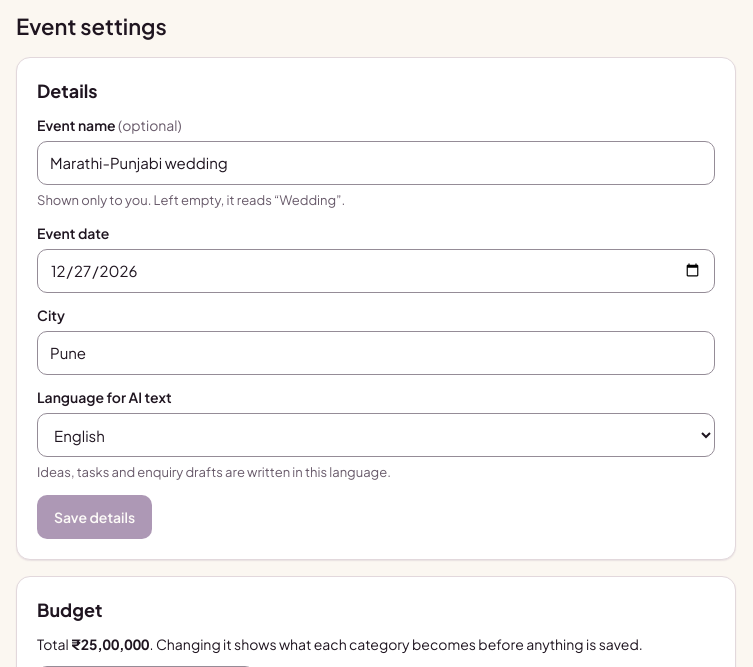
Test: Event settings: failures and existing links › shows the store's reason when saving details fails, and a fallback without one
The image size is (753, 667).
Replace the text in the field labelled "City" with "Nashik": (376, 353) [37, 331, 715, 375]
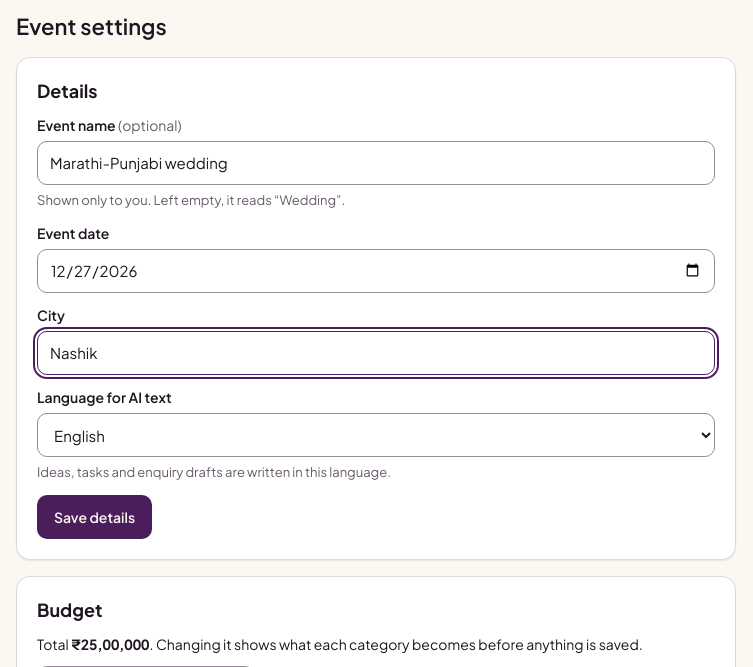
Click the button "Save details": (95, 517) [37, 495, 152, 539]
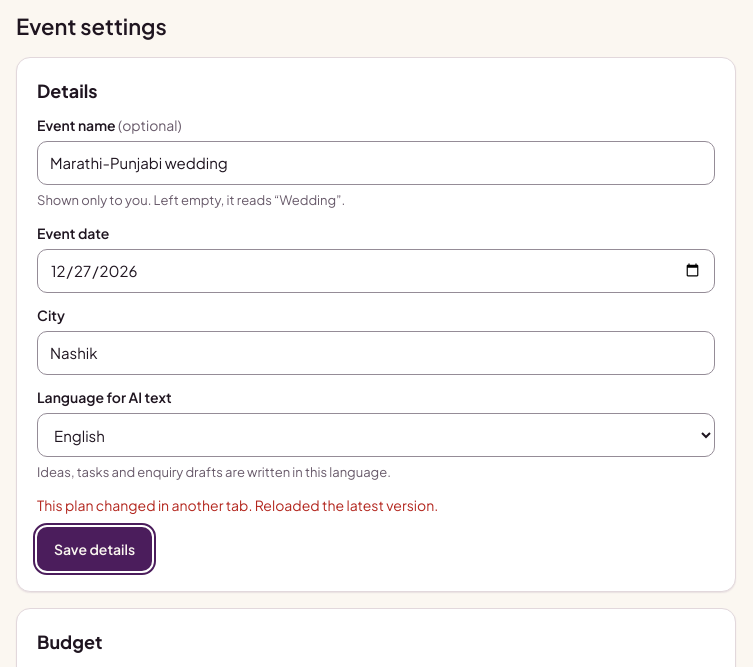
Expected: the message reads "This plan changed in another tab. Reloaded the latest version.", [37, 496, 438, 514]
Click the button "Save details": (95, 549) [37, 527, 152, 571]
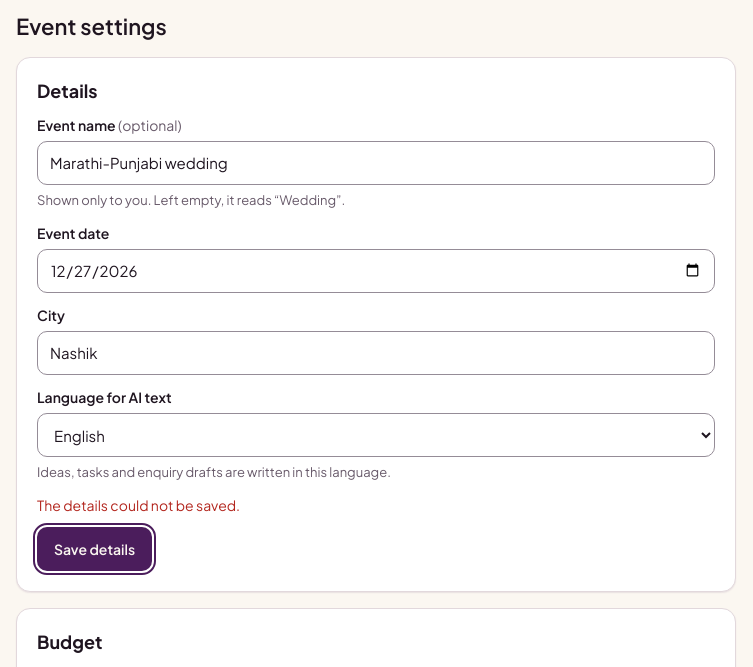
Expected: the text "The details could not be saved." is shown, [37, 496, 240, 514]
